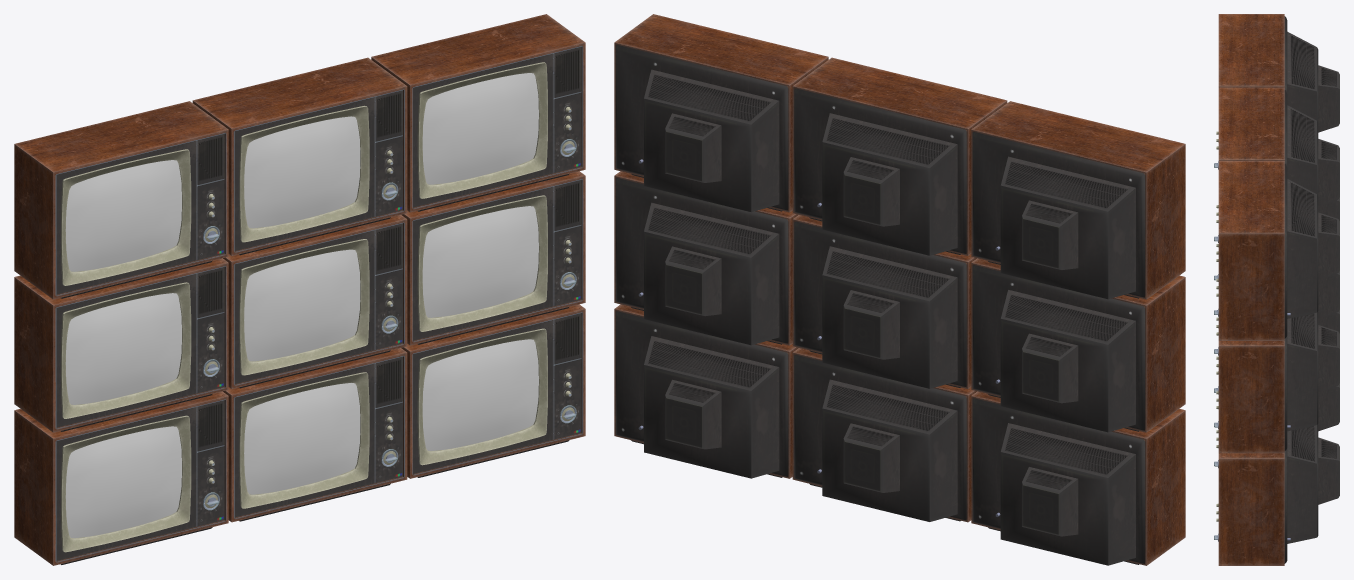
File: RetroTVvideoWall_UVsqrd.glb
3 views of the same model, side by side, from view 1: azimuth 30°, elevation 25°; view 2: azimuth 150°, elevation 25°; view 3: azimuth 270°, elevation 25° (orthographic). The views are drawn at different scales.
Visible parts, largest first — view 1: Retro_TV.006, Retro_TV.007, Retro_TV.008, Retro_TV, Retro_TV.003, Retro_TV.001, Retro_TV.004, Retro_TV.002, Retro_TV.005, screenbm.004, screenbm.007, screenbm.001 (+6 smaller); view 2: Retro_TV.006, Retro_TV.007, Retro_TV.008, Retro_TV, Retro_TV.003, Retro_TV.001, Retro_TV.004, Retro_TV.002, Retro_TV.005; view 3: Retro_TV.008, Retro_TV.002, Retro_TV.005, Retro_TV.007, Retro_TV.006, Retro_TV.001, Retro_TV.004, Retro_TV, Retro_TV.003.
Part boxes in pixels (x1,y1,x2,y2): Retro_TV.006: (14,101,228,299); Retro_TV.007: (192,57,407,255); Retro_TV.008: (371,14,585,212); Retro_TV: (14,391,228,565); Retro_TV.003: (14,258,228,432); Retro_TV.001: (223,348,407,522); Retro_TV.004: (223,215,407,388); Retro_TV.002: (401,304,585,478); Retro_TV.005: (401,171,585,345); screenbm.004: (244,249,360,361); screenbm.007: (244,116,360,228); screenbm.001: (244,383,360,494); Retro_TV.006: (971,101,1185,299); Retro_TV.007: (792,57,1007,255); Retro_TV.008: (614,14,828,212); Retro_TV: (971,391,1185,565); Retro_TV.003: (971,258,1185,432); Retro_TV.001: (792,348,976,522); Retro_TV.004: (792,215,976,388); Retro_TV.002: (614,304,798,478); Retro_TV.005: (614,171,798,345); Retro_TV.008: (1214,161,1339,340); Retro_TV.002: (1214,424,1339,565); Retro_TV.005: (1214,311,1339,453); Retro_TV.007: (1214,87,1339,242); Retro_TV.006: (1214,14,1339,169); Retro_TV.001: (1214,383,1339,468); Retro_TV.004: (1214,271,1339,355); Retro_TV: (1214,310,1339,394); Retro_TV.003: (1214,197,1339,280).
Size of the model in its own units: 1.58 by 1.13 by 0.3823.
Materials: 2 (1 with a texture image).
